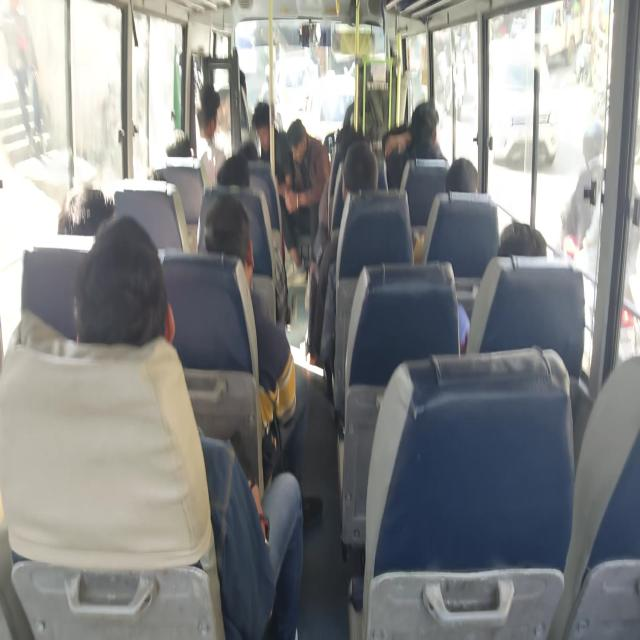person: (76, 231, 167, 344), (200, 203, 278, 272), (49, 187, 119, 240), (442, 159, 497, 204), (492, 224, 538, 256), (346, 146, 374, 196), (194, 81, 218, 131), (416, 102, 444, 144), (254, 99, 276, 139), (222, 159, 256, 182), (286, 131, 313, 158), (167, 129, 190, 159), (136, 162, 160, 190), (338, 123, 356, 150), (232, 70, 250, 97), (352, 57, 372, 80), (238, 140, 259, 158)
